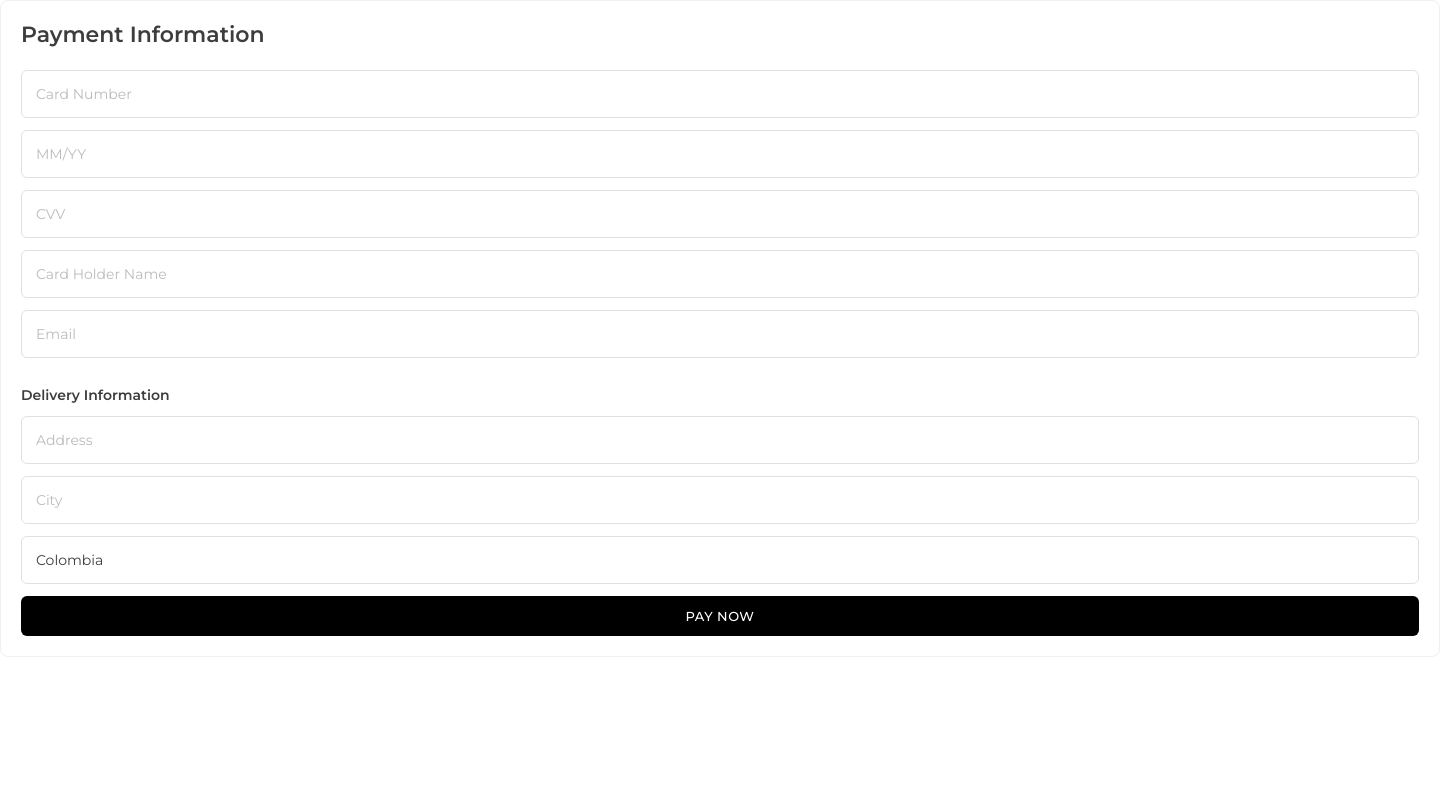
Scenario: StepCardDelivery › formats card number as user types
Type "4111111111111111" into the field with placeholder "Card Number" at (720, 94), box x1=21 y1=70 x2=1419 y2=118
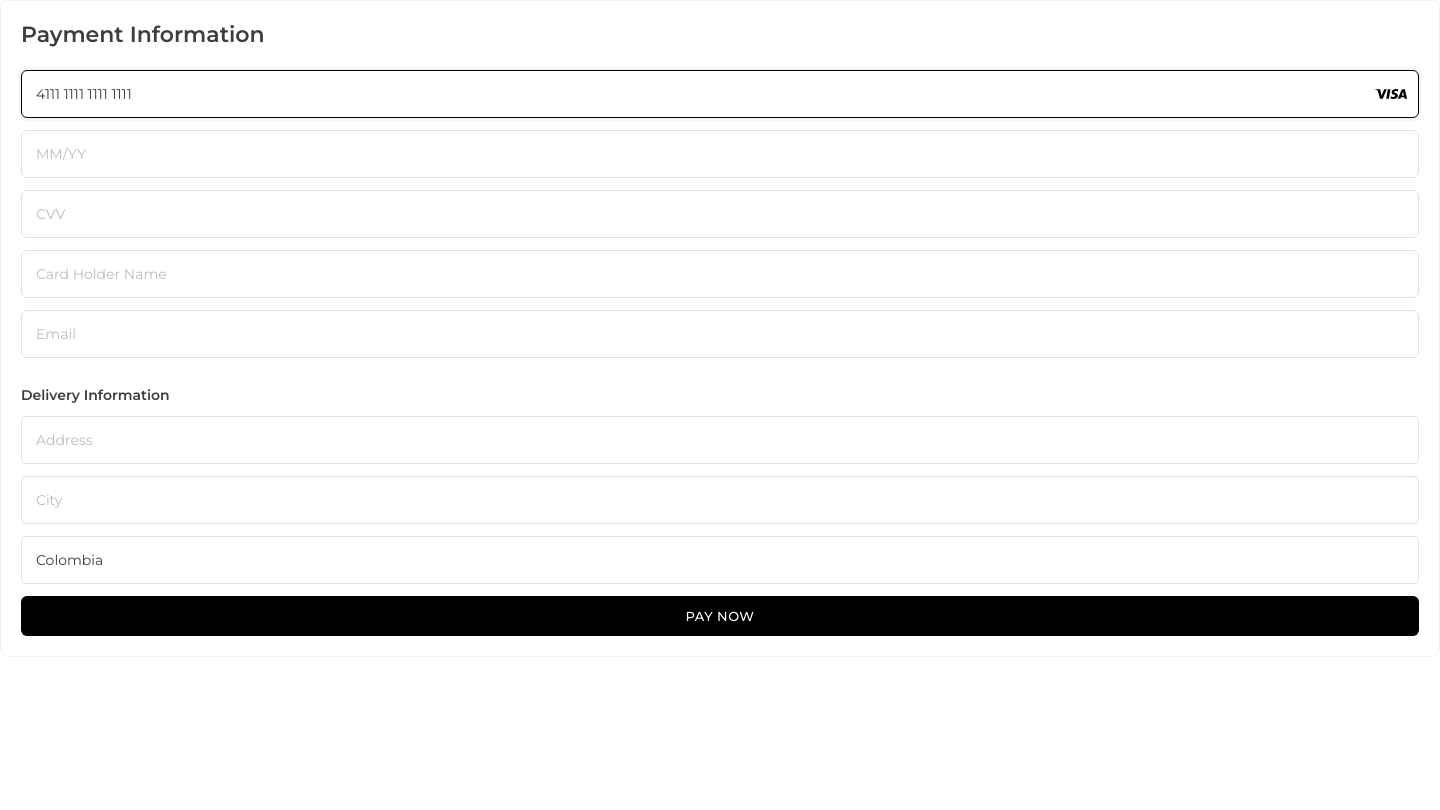
Check: the 1st field with placeholder "Card Number" holds "4111 1111 1111 1111", box x1=21 y1=70 x2=1419 y2=118
